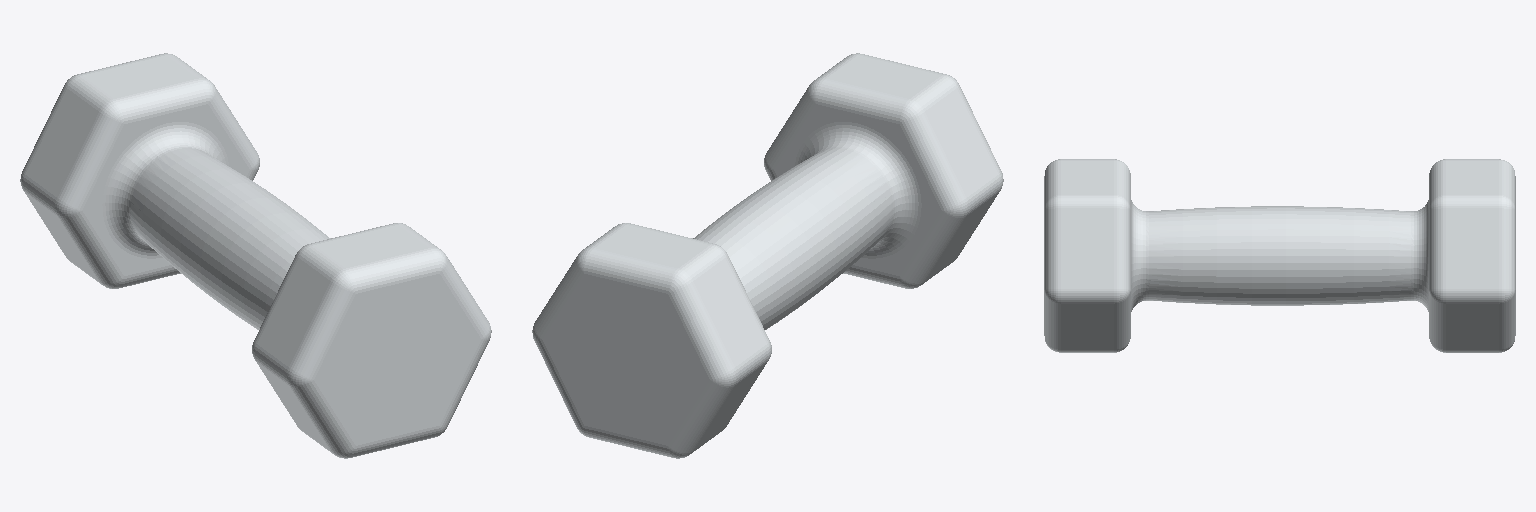
The robot description file, URDF, robot "gen3_robotiq_2f_85":
<?xml version="1.0" ?>
<!-- =================================================================================== -->
<!-- |    This document was autogenerated by xacro from gen3_robotiq_2f_85.xacro       | -->
<!-- |    EDITING THIS FILE BY HAND IS NOT RECOMMENDED                                 | -->
<!-- =================================================================================== -->
<robot name="gen3_robotiq_2f_85">
  <!-- Run the macros -->
  <link name="base">
    <inertial>
      <origin rpy="0 0 0" xyz="-0.000648 -0.000166 0.084487"/>
      <mass value="1.697"/>
      <inertia ixx="0.004622" ixy="9E-06" ixz="6E-05" iyy="0.004495" iyz="9E-06" izz="0.002079"/>
    </inertial>
    <visual>
      <origin rpy="0 0 0" xyz="0 0 0"/>
      <geometry>
        <mesh filename="meshes/base_link.stl"/>
      </geometry>
      <material name="">
        <color rgba="0.75294 0.75294 0.75294 1"/>
      </material>
    </visual>
    <collision>
      <origin rpy="0 0 0" xyz="0 0 0"/>
      <geometry>
        <mesh filename="meshes/base_link.stl"/>
      </geometry>
    </collision>
  </link>

  <link name="shoulder_link">
    <inertial>
      <origin rpy="0 0 0" xyz="-2.3E-05 -0.010364 -0.07336"/>
      <mass value="1.3773"/>
      <inertia ixx="0.00457" ixy="1E-06" ixz="2E-06" iyy="0.004831" iyz="0.000448" izz="0.001409"/>
    </inertial>
    <visual>
      <origin rpy="0 0 0" xyz="0 0 0"/>
      <geometry>
        <mesh filename="meshes/shoulder_link.stl"/>
      </geometry>
      <material name="">
        <color rgba="0.75294 0.75294 0.75294 1"/>
      </material>
    </visual>
    <collision>
      <origin rpy="0 0 0" xyz="0 0 0"/>
      <geometry>
        <mesh filename="meshes/shoulder_link.stl"/>
      </geometry>
    </collision>
  </link>

  <joint name="joint_1" type="revolute">
    <origin rpy="3.1416 2.7629E-18 -4.9305E-36" xyz="0 0 0.15643"/>
    <parent link="base"/>
    <child link="shoulder_link"/>
    <axis xyz="0 0 1"/>
    <limit effort="39" velocity="1.3963"/>
  </joint>

  <link name="half_arm_1_link">
    <inertial>
      <origin rpy="0 0 0" xyz="-4.4E-05 -0.09958 -0.013278"/>
      <mass value="1.1636"/>
      <inertia ixx="0.011088" ixy="5E-06" ixz="0" iyy="0.001072" iyz="-0.000691" izz="0.011255"/>
    </inertial>
    <visual>
      <origin rpy="0 0 0" xyz="0 0 0"/>
      <geometry>
        <mesh filename="meshes/half_arm_1_link.stl"/>
      </geometry>
      <material name="">
        <color rgba="0.75294 0.75294 0.75294 1"/>
      </material>
    </visual>
    <collision>
      <origin rpy="0 0 0" xyz="0 0 0"/>
      <geometry>
        <mesh filename="meshes/half_arm_1_link.stl"/>
      </geometry>
    </collision>
  </link>

  <joint name="joint_2" type="revolute">
    <origin rpy="1.5708 2.1343E-17 -1.1102E-16" xyz="0 0.005375 -0.12838"/>
    <parent link="shoulder_link"/>
    <child link="half_arm_1_link"/>
    <axis xyz="0 0 1"/>
    <limit effort="39" lower="-2.41" upper="2.41" velocity="1.3963"/>
  </joint>

  <link name="half_arm_2_link">
    <inertial>
      <origin rpy="0 0 0" xyz="-4.4E-05 -0.006641 -0.117892"/>
      <mass value="1.1636"/>
      <inertia ixx="0.010932" ixy="0" ixz="-7E-06" iyy="0.011127" iyz="0.000606" izz="0.001043"/>
    </inertial>
    <visual>
      <origin rpy="0 0 0" xyz="0 0 0"/>
      <geometry>
        <mesh filename="meshes/half_arm_2_link.stl"/>
      </geometry>
      <material name="">
        <color rgba="0.75294 0.75294 0.75294 1"/>
      </material>
    </visual>
    <collision>
      <origin rpy="0 0 0" xyz="0 0 0"/>
      <geometry>
        <mesh filename="meshes/half_arm_2_link.stl"/>
      </geometry>
    </collision>
  </link>

  <joint name="joint_3" type="revolute">
    <origin rpy="-1.5708 1.2326E-32 -2.9122E-16" xyz="0 -0.21038 -0.006375"/>
    <parent link="half_arm_1_link"/>
    <child link="half_arm_2_link"/>
    <axis xyz="0 0 1"/>
    <limit effort="39" velocity="1.3963"/>
  </joint>

  <link name="forearm_link">
    <inertial>
      <origin rpy="0 0 0" xyz="-1.8E-05 -0.075478 -0.015006"/>
      <mass value="0.9302"/>
      <inertia ixx="0.008147" ixy="-1E-06" ixz="0" iyy="0.000631" iyz="-0.0005" izz="0.008316"/>
    </inertial>
    <visual>
      <origin rpy="0 0 0" xyz="0 0 0"/>
      <geometry>
        <mesh filename="meshes/forearm_link.stl"/>
      </geometry>
      <material name="">
        <color rgba="0.75294 0.75294 0.75294 1"/>
      </material>
    </visual>
    <collision>
      <origin rpy="0 0 0" xyz="0 0 0"/>
      <geometry>
        <mesh filename="meshes/forearm_link.stl"/>
      </geometry>
    </collision>
  </link>

  <joint name="joint_4" type="revolute">
    <origin rpy="1.5708 -6.6954E-17 -1.6653E-16" xyz="0 0.006375 -0.21038"/>
    <parent link="half_arm_2_link"/>
    <child link="forearm_link"/>
    <axis xyz="0 0 1"/>
    <limit effort="39" lower="-2.66" upper="2.66" velocity="1.3963"/>
  </joint>

  <link name="spherical_wrist_1_link">
    <inertial>
      <origin rpy="0 0 0" xyz="1E-06 -0.009432 -0.063883"/>
      <mass value="0.6781"/>
      <inertia ixx="0.001596" ixy="0" ixz="0" iyy="0.001607" iyz="0.000256" izz="0.000399"/>
    </inertial>
    <visual>
      <origin rpy="0 0 0" xyz="0 0 0"/>
      <geometry>
        <mesh filename="meshes/spherical_wrist_1_link.stl"/>
      </geometry>
      <material name="">
        <color rgba="0.75294 0.75294 0.75294 1"/>
      </material>
    </visual>
    <collision>
      <origin rpy="0 0 0" xyz="0 0 0"/>
      <geometry>
        <mesh filename="meshes/spherical_wrist_1_link.stl"/>
      </geometry>
    </collision>
  </link>

  <joint name="joint_5" type="revolute">
    <origin rpy="-1.5708 2.2204E-16 -6.373E-17" xyz="0 -0.20843 -0.006375"/>
    <parent link="forearm_link"/>
    <child link="spherical_wrist_1_link"/>
    <axis xyz="0 0 1"/>
    <limit effort="9" velocity="1.2218"/>
  </joint>

  <link name="spherical_wrist_2_link">
    <inertial>
      <origin rpy="0 0 0" xyz="1E-06 -0.045483 -0.00965"/>
      <mass value="0.6781"/>
      <inertia ixx="0.001641" ixy="0" ixz="0" iyy="0.00041" iyz="-0.000278" izz="0.001641"/>
    </inertial>
    <visual>
      <origin rpy="0 0 0" xyz="0 0 0"/>
      <geometry>
        <mesh filename="meshes/spherical_wrist_2_link.stl"/>
      </geometry>
      <material name="">
        <color rgba="0.75294 0.75294 0.75294 1"/>
      </material>
    </visual>
    <collision>
      <origin rpy="0 0 0" xyz="0 0 0"/>
      <geometry>
        <mesh filename="meshes/spherical_wrist_2_link.stl"/>
      </geometry>
    </collision>
  </link>

  <joint name="joint_6" type="revolute">
    <origin rpy="1.5708 9.2076E-28 -8.2157E-15" xyz="0 0.00017505 -0.10593"/>
    <parent link="spherical_wrist_1_link"/>
    <child link="spherical_wrist_2_link"/>
    <axis xyz="0 0 1"/>
    <limit effort="9" lower="-2.23" upper="2.23" velocity="1.2218"/>
  </joint>

  <link name="bracelet_link">
    <inertial>
      <!-- This is different from the documentation -->
      <origin rpy="0 0 0" xyz="0.000281 0.011402 -0.029798"/>
      <mass value="0.5"/>
      <inertia ixx="0.000587" ixy="3E-06" ixz="3E-06" iyy="0.000369" iyz="-0.000118" izz="0.000609"/>
    </inertial>
    <visual>
      <origin rpy="0 0 0" xyz="0 0 0"/>
      <geometry>
        <mesh filename="meshes/bracelet_with_vision_link.stl"/>
      </geometry>
      <material name="">
        <color rgba="0.75294 0.75294 0.75294 1"/>
      </material>
    </visual>
    <collision>
      <origin rpy="0 0 0" xyz="0 0 0"/>
      <geometry>
        <mesh filename="meshes/bracelet_with_vision_link.stl"/>
      </geometry>
    </collision>
  </link>

  <joint name="joint_7" type="revolute">
    <origin rpy="-1.5708 -5.5511E-17 9.6396E-17" xyz="0 -0.10593 -0.00017505"/>
    <parent link="spherical_wrist_2_link"/>
    <child link="bracelet_link"/>
    <axis xyz="0 0 1"/>
    <limit effort="9" velocity="1.2218"/>
  </joint>

  <joint name="gripper_base_joint" type="fixed">
    <parent link="bracelet_link"/>
    <child link="gripper_base"/>
    <origin rpy="1.5707 0.0 0.0" xyz="0.0 0.0 -0.0615250000000001"/>
  </joint>

  <link name="gripper_base">
    <inertial>
      <origin rpy="0 0 0" xyz="6.91E-06 4.4117E-06 0.031656"/>
      <mass value="0.60831"/>
      <inertia ixx="0.0004596" ixy="1.5559E-09" ixz="1.397E-07" iyy="0.0005181" iyz="-1.0325E-11" izz="0.00036051"/>
    </inertial>
    <visual>
      <origin rpy="0 0 0" xyz="0 0 0"/>
      <geometry>
        <mesh filename="meshes/base_of_gripper.stl"/>
      </geometry>
      <material name="">
        <color rgba="0.89804 0.91765 0.92941 0.25"/>
      </material>
    </visual>
    <collision>
      <origin rpy="0 0 0" xyz="0 0 0"/>
      <geometry>
        <mesh filename="meshes/base_of_gripper.stl"/>
      </geometry>
    </collision>
  </link>

  <link name="gripper_right_spring_link">
    <inertial>
      <origin rpy="0 0 0" xyz="-9.7222E-12 0.028253 6.791E-10"/>
      <mass value="0.029951"/>
      <inertia ixx="1.5103E-05" ixy="-1.0709E-16" ixz="-2.654E-15" iyy="5.0789E-06" iyz="3.2666E-14" izz="1.0707E-05"/>
    </inertial>
    <visual>
      <origin rpy="0 0 0" xyz="0 0 0"/>
      <geometry>
        <mesh filename="meshes/right_spring_link.stl"/>
      </geometry>
      <material name="">
        <color rgba="0.89804 0.91765 0.92941 1"/>
      </material>
    </visual>
    <collision>
      <origin rpy="0 0 0" xyz="0 0 0"/>
      <geometry>
        <mesh filename="meshes/right_spring_link.stl"/>
      </geometry>
    </collision>
  </link>

  <joint name="gripper_right_spring_link_joint" type="fixed">
    <origin rpy="3.1416 0 0.392699" xyz="0.0127 -0.061307 0"/>
    <parent link="gripper_base"/>
    <child link="gripper_right_spring_link"/>
    <axis xyz="0 0 1"/>
    <limit effort="0" lower="0" upper="0.7854" velocity="0"/>
  </joint>

  <link name="gripper_left_spring_link">
    <inertial>
      <origin rpy="0 0 0" xyz="-8.05421701555176E-13 0.0282525952540491 7.27854432947014E-10"/>
      <mass value="0.0299513316731757"/>
      <inertia ixx="1.51025275365861E-05" ixy="1.3893966137107E-16" ixz="-5.21047318848845E-15" iyy="5.07891354120236E-06" iyz="3.47379370230503E-14" izz="1.0706817344978E-05"/>
    </inertial>
    <visual>
      <origin rpy="0 0 0" xyz="0 0 0"/>
      <geometry>
        <mesh filename="meshes/left_spring_link.stl"/>
      </geometry>
      <material name="">
        <color rgba="0.898039215686275 0.917647058823529 0.929411764705882 1"/>
      </material>
    </visual>
    <collision>
      <origin rpy="0 0 0" xyz="0 0 0"/>
      <geometry>
        <mesh filename="meshes/left_spring_link.stl"/>
      </geometry>
    </collision>
  </link>

  <joint name="gripper_left_spring_link_joint" type="fixed">
    <origin rpy="3.1416 0 -0.392699" xyz="-0.0127 -0.061307 0"/>
    <parent link="gripper_base"/>
    <child link="gripper_left_spring_link"/>
    <axis xyz="0 0 1"/>
    <limit effort="0" lower="-0.7854" upper="0" velocity="0"/>
  </joint>

  <link name="gripper_right_driver">
    <inertial>
      <origin rpy="0 0 0" xyz="0.0179377478479594 0.000926031753317007 -4.0741034207454E-11"/>
      <mass value="0.0184906489409923"/>
      <inertia ixx="6.79440339903172E-07" ixy="-2.0728790158877E-07" ixz="5.46290681974064E-15" iyy="3.45929623837714E-06" iyz="7.55029433009734E-15" izz="3.75009298146153E-06"/>
    </inertial>
    <visual>
      <origin rpy="0 0 0" xyz="0 0 0"/>
      <geometry>
        <mesh filename="meshes/right_driver.stl"/>
      </geometry>
      <material name="">
        <color rgba="0.898039215686275 0.917647058823529 0.929411764705882 1"/>
      </material>
    </visual>
    <collision>
      <origin rpy="0 0 0" xyz="0 0 0"/>
      <geometry>
        <mesh filename="meshes/right_driver.stl"/>
      </geometry>
    </collision>
  </link>

  <joint name="gripper_right_driver_joint" type="fixed">
    <origin rpy="3.1416 0 -1.5707" xyz="0.030601 -0.054792 0"/>
    <parent link="gripper_base"/>
    <child link="gripper_right_driver"/>
    <axis xyz="0 0 1"/>
    <limit effort="150" lower="-3.1416" upper="3.1416" velocity="0"/>
  </joint>

  <link name="gripper_right_coupler">
    <inertial>
      <origin rpy="0 0 0" xyz="-0.00277693278884095 0.0214010778170948 -2.64117771736162E-15"/>
      <mass value="0.0273093985570947"/>
      <inertia ixx="8.4351877262463E-06" ixy="8.05599897942411E-07" ixz="3.98563616297657E-19" iyy="2.33117687880373E-06" iyz="-6.91949626399278E-19" izz="6.9133328065108E-06"/>
    </inertial>
    <visual>
      <origin rpy="0 0 0" xyz="0 0 0"/>
      <geometry>
        <mesh filename="meshes/right_coupler.stl"/>
      </geometry>
      <material name="">
        <color rgba="0.898039215686275 0.917647058823529 0.929411764705882 1"/>
      </material>
    </visual>
    <collision>
      <origin rpy="0 0 0" xyz="0 0 0"/>
      <geometry>
        <mesh filename="meshes/right_coupler.stl"/>
      </geometry>
    </collision>
  </link>

  <joint name="gripper_right_coupler_joint" type="fixed">
    <origin rpy="0 0 -1.5707" xyz="0.031486 -0.0040855 0"/>
    <parent link="gripper_right_driver"/>
    <child link="gripper_right_coupler"/>
    <axis xyz="0 0 -1"/>
    <limit effort="0" lower="0.13" upper="0.79" velocity="0"/>
  </joint>

  <link name="gripper_right_follower">
    <inertial>
      <origin rpy="0 0 0" xyz="0.0118738800643238 0.013213950103123 -6.42371679073841E-16"/>
      <mass value="0.0195548943464751"/>
      <inertia ixx="3.99125345460037E-06" ixy="-9.32228708142781E-07" ixz="-1.06756339811242E-18" iyy="1.28831055431048E-06" iyz="-9.53069862405573E-19" izz="4.59174098263665E-06"/>
    </inertial>
    <visual>
      <origin rpy="0 0 0" xyz="0 0 0"/>
      <geometry>
        <mesh filename="meshes/right_follower.stl"/>
      </geometry>
      <material name="">
        <color rgba="0.898039215686275 0.917647058823529 0.929411764705882 1"/>
      </material>
    </visual>
    <collision>
      <origin rpy="0 0 0" xyz="0 0 0"/>
      <geometry>
        <mesh filename="meshes/right_follower.stl"/>
      </geometry>
    </collision>
  </link>

  <joint name="gripper_right_follower_joint" type="fixed">
    <origin rpy="3.1416 0 3.1416" xyz="-0.0061148 0.047125 0"/>
    <parent link="gripper_right_coupler"/>
    <child link="gripper_right_follower"/>
    <axis xyz="0 0 1"/>
    <limit effort="0" lower="-3.1416" upper="3.1416" velocity="0"/>
  </joint>

  <link name="gripper_right_pad">
    <inertial>
      <origin rpy="0 0 0" xyz="0.000197179990555962 0.003 -5.73415880070697E-15"/>
      <mass value="0.0112846745192962"/>
      <inertia ixx="4.84198905594698E-07" ixy="1.17467826101044E-22" ixz="-2.69493952498347E-22" iyy="1.75287448520128E-06" iyz="3.01393554780919E-23" izz="1.33638362672235E-06"/>
    </inertial>
    <visual>
      <origin rpy="0 0 0" xyz="0 0 0"/>
      <geometry>
        <mesh filename="meshes/right_pad.stl"/>
      </geometry>
      <material name="">
        <color rgba="0.529411764705882 0.549019607843137 0.549019607843137 1"/>
      </material>
    </visual>
    <collision>
      <origin rpy="0 0 0" xyz="0 0 0"/>
      <geometry>
        <mesh filename="meshes/right_pad.stl"/>
      </geometry>
    </collision>
  </link>

  <joint name="gripper_right_pad_joint" type="fixed">
    <origin rpy="3.1416 0 -1.5708" xyz="0.024903 0.032264 0"/>
    <parent link="gripper_right_follower"/>
    <child link="gripper_right_pad"/>
    <axis xyz="0 0 0"/>
  </joint>

  <link name="gripper_left_driver">
    <inertial>
      <origin rpy="0 0 0" xyz="0.0179377478480944 0.000926031754016808 -4.09476305946672E-11"/>
      <mass value="0.0184906489414316"/>
      <inertia ixx="6.79440340033055E-07" ixy="-2.07287901659297E-07" ixz="5.48822371152932E-15" iyy="3.45929623843939E-06" iyz="7.56200742857023E-15" izz="3.75009298156646E-06"/>
    </inertial>
    <visual>
      <origin rpy="0 0 0" xyz="0 0 0"/>
      <geometry>
        <mesh filename="meshes/left_driver.stl"/>
      </geometry>
      <material name="">
        <color rgba="0.898039215686275 0.917647058823529 0.929411764705882 1"/>
      </material>
    </visual>
    <collision>
      <origin rpy="0 0 0" xyz="0 0 0"/>
      <geometry>
        <mesh filename="meshes/left_driver.stl"/>
      </geometry>
    </collision>
  </link>

  <joint name="gripper_left_driver_joint" type="fixed">
    <origin rpy="0 0 -1.5707" xyz="-0.030601 -0.054792 0"/>
    <parent link="gripper_base"/>
    <child link="gripper_left_driver"/>
    <axis xyz="0 0 1"/>
    <limit effort="150" lower="-3.1416" upper="3.1416" velocity="0"/>
  </joint>

  <link name="gripper_left_coupler">
    <inertial>
      <origin rpy="0 0 0" xyz="-0.00277693278884093 0.0214010778170948 -2.65696393157366E-15"/>
      <mass value="0.0273093985570947"/>
      <inertia ixx="8.43518772624629E-06" ixy="8.05599897942414E-07" ixz="3.98028057558574E-19" iyy="2.33117687880373E-06" iyz="-6.91715450328278E-19" izz="6.9133328065108E-06"/>
    </inertial>
    <visual>
      <origin rpy="0 0 0" xyz="0 0 0"/>
      <geometry>
        <mesh filename="meshes/left_coupler.stl"/>
      </geometry>
      <material name="">
        <color rgba="0.898039215686275 0.917647058823529 0.929411764705882 1"/>
      </material>
    </visual>
    <collision>
      <origin rpy="0 0 0" xyz="0 0 0"/>
      <geometry>
        <mesh filename="meshes/left_coupler.stl"/>
      </geometry>
    </collision>
  </link>

  <joint name="gripper_left_coupler_joint" type="fixed">
    <origin rpy="3.1416 0 1.5707" xyz="0.031486 -0.0040855 0"/>
    <parent link="gripper_left_driver"/>
    <child link="gripper_left_coupler"/>
    <axis xyz="0 0 1"/>
    <limit effort="0" lower="0.13" upper="0.79" velocity="0"/>
  </joint>

  <link name="gripper_left_follower">
    <inertial>
      <origin rpy="0 0 0" xyz="0.0118738800643238 0.013213950103123 2.13813023929037E-15"/>
      <mass value="0.0195548943464751"/>
      <inertia ixx="3.99125345460038E-06" ixy="-9.32228708142783E-07" ixz="-1.06843707618223E-18" iyy="1.28831055431048E-06" iyz="-9.54631781105362E-19" izz="4.59174098263666E-06"/>
    </inertial>
    <visual>
      <origin rpy="0 0 0" xyz="0 0 0"/>
      <geometry>
        <mesh filename="meshes/left_follower.stl"/>
      </geometry>
      <material name="">
        <color rgba="0.898039215686275 0.917647058823529 0.929411764705882 1"/>
      </material>
    </visual>
    <collision>
      <origin rpy="0 0 0" xyz="0 0 0"/>
      <geometry>
        <mesh filename="meshes/left_follower.stl"/>
      </geometry>
    </collision>
  </link>

  <joint name="gripper_left_follower_joint" type="fixed">
    <origin rpy="0 0 0" xyz="-0.0061148 0.047125 0"/>
    <parent link="gripper_left_coupler"/>
    <child link="gripper_left_follower"/>
    <axis xyz="0 0 1"/>
    <limit effort="0" lower="-3.1416" upper="3.1416" velocity="0"/>
  </joint>

  <link name="gripper_left_pad">
    <inertial>
      <origin rpy="0 0 0" xyz="0.00019717999055599 0.003 8.49842392779646E-15"/>
      <mass value="0.0112846745192961"/>
      <inertia ixx="4.84198905594697E-07" ixy="7.66025016740815E-22" ixz="4.8234593310579E-23" iyy="1.75287448520127E-06" iyz="-9.35905899337494E-24" izz="1.33638362672235E-06"/>
    </inertial>
    <visual>
      <origin rpy="0 0 0" xyz="0 0 0"/>
      <geometry>
        <mesh filename="meshes/left_pad.stl"/>
      </geometry>
      <material name="">
        <color rgba="0.529411764705882 0.549019607843137 0.549019607843137 1"/>
      </material>
    </visual>
    <collision>
      <origin rpy="0 0 0" xyz="0 0 0"/>
      <geometry>
        <mesh filename="meshes/left_pad.stl"/>
      </geometry>
    </collision>
  </link>

  <joint name="gripper_left_pad_joint" type="fixed">
    <origin rpy="0 0 -1.5708" xyz="0.018903 0.032265 0"/>
    <parent link="gripper_left_follower"/>
    <child link="gripper_left_pad"/>
    <axis xyz="0 0 0"/>
  </joint>

  <joint name="contact_joint" type="fixed">
     <origin rpy="0 1.5708 0" xyz="0 -0.16 0" />
     <parent link="gripper_base" />
     <child link="object_link" />
     <axis xyz="0 0 1"/>
    <limit effort="100" velocity="100"/>
  </joint> 

  <!-- 2lb dumbbell -->
  <link name="object_link">
    <inertial>
      <origin rpy="0 0 0" xyz="0 0 0"/>
      <mass value="0.9072"/>
      <inertia ixx="0.000251741322" ixy="0" ixz="0" iyy="0.00238495614" iyz="0" izz="0.00238495614"/>
    </inertial>
    <visual>
      <origin rpy="0 0 0" xyz="0 0 0"/>
      <geometry>
        <mesh filename="meshes/dumbbell_2lb.STL" scale="0.001 0.001 0.001"/>
      </geometry>
      <material name="">
        <color rgba="0.89804 0.91765 0.92941 0.25"/>
      </material>
    </visual>
    <collision>
      <origin rpy="0 0 0" xyz="0 0 0"/>
      <geometry>
        <mesh filename="meshes/dumbbell_2lb.STL" scale="0.001 0.001 0.001"/>
      </geometry>
    </collision>
  </link>
</robot>

--- Facts derived from the render (not from the file) ---
3 views of the same robot in one strip: view 1: azimuth 30°, elevation 25°; view 2: azimuth 150°, elevation 25°; view 3: azimuth 270°, elevation 25° (orthographic).
Model gen3_robotiq_2f_85 with 20 links and 19 joints (7 revolute, 12 fixed), rooted at base, posed every joint at zero.
Visible links, largest first — view 1: object_link; view 2: object_link; view 3: object_link.
Link boxes in pixels (left/top/right/bottom): object_link: left=20, top=53, right=491, bottom=458; object_link: left=532, top=53, right=1003, bottom=458; object_link: left=1044, top=159, right=1515, bottom=352.
Bounding box of the posed robot: 0.0585 × 0.142 × 0.052 m (x, y, z).
1 mesh visuals loaded from 20 distinct referenced files (1 binary STL); not drawn: 19 (reference not matched to a file when rendering).